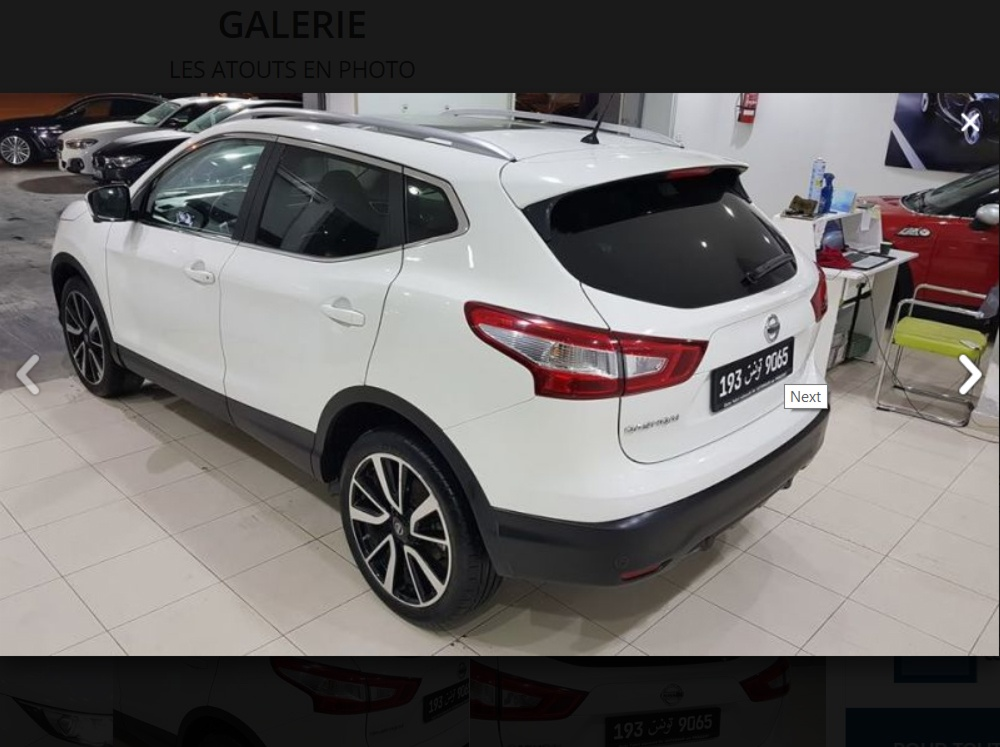LP: (708, 337, 804, 410)
